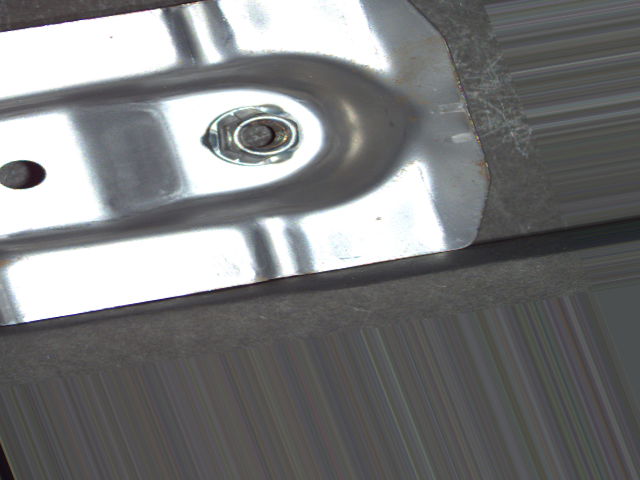good: (201, 99, 307, 172)
